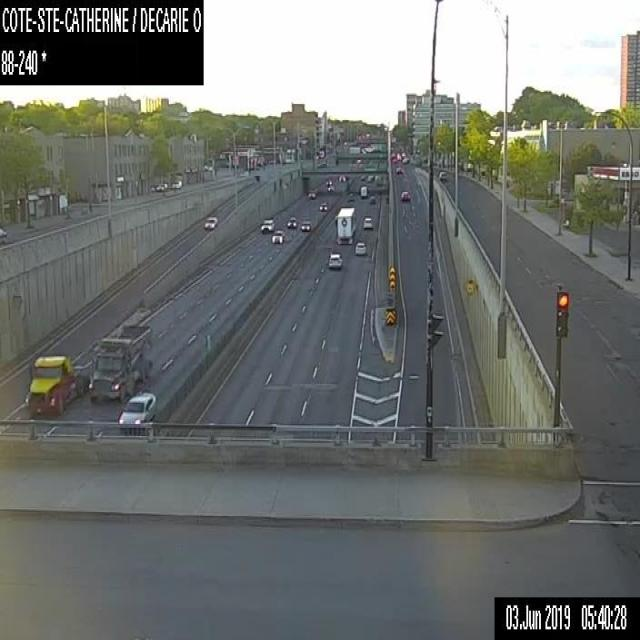vehicle: (89, 324, 152, 402), (25, 353, 89, 417), (118, 392, 156, 424), (335, 206, 356, 244), (328, 252, 342, 267), (270, 229, 284, 243), (261, 218, 274, 233), (204, 215, 218, 228), (354, 240, 366, 254), (287, 216, 297, 228), (362, 217, 372, 228), (300, 220, 311, 230), (318, 200, 328, 211), (400, 190, 410, 201), (0, 228, 6, 244), (360, 185, 367, 197), (156, 183, 167, 190), (172, 180, 181, 188), (439, 170, 446, 180), (307, 191, 316, 198), (338, 174, 346, 181), (327, 184, 334, 191), (396, 166, 402, 174), (369, 196, 375, 202), (402, 157, 408, 163), (325, 179, 332, 184), (360, 175, 364, 180)
